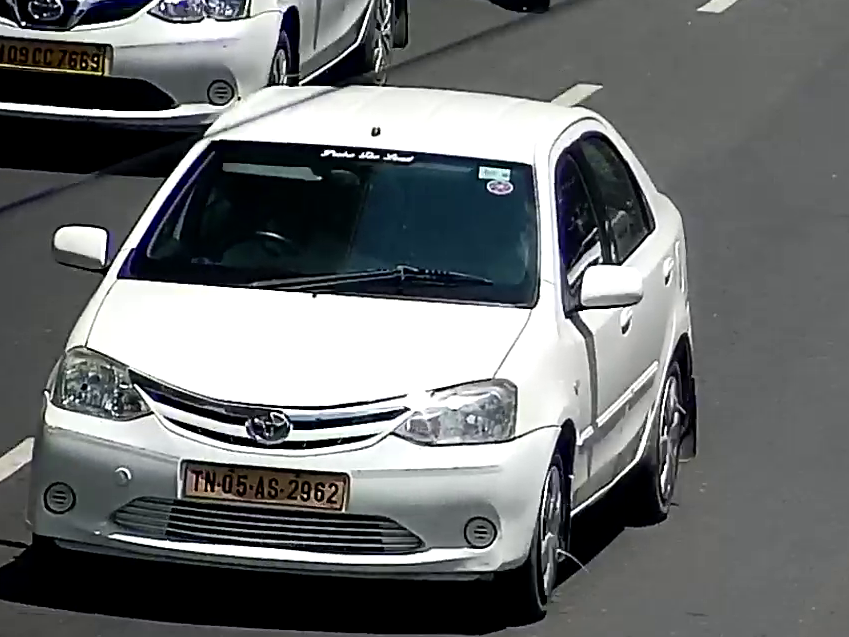.: (249, 484, 253, 491), (279, 488, 284, 493), (217, 482, 220, 487)
0: (221, 473, 233, 494)
2: (326, 482, 339, 505), (287, 479, 299, 501)
5: (235, 474, 248, 497)
6: (313, 480, 325, 502)
9: (299, 480, 312, 502)
A: (254, 476, 265, 499)
N: (204, 470, 217, 493)
P9: (182, 459, 347, 512)
S: (267, 478, 279, 499)
T: (190, 469, 204, 492)
